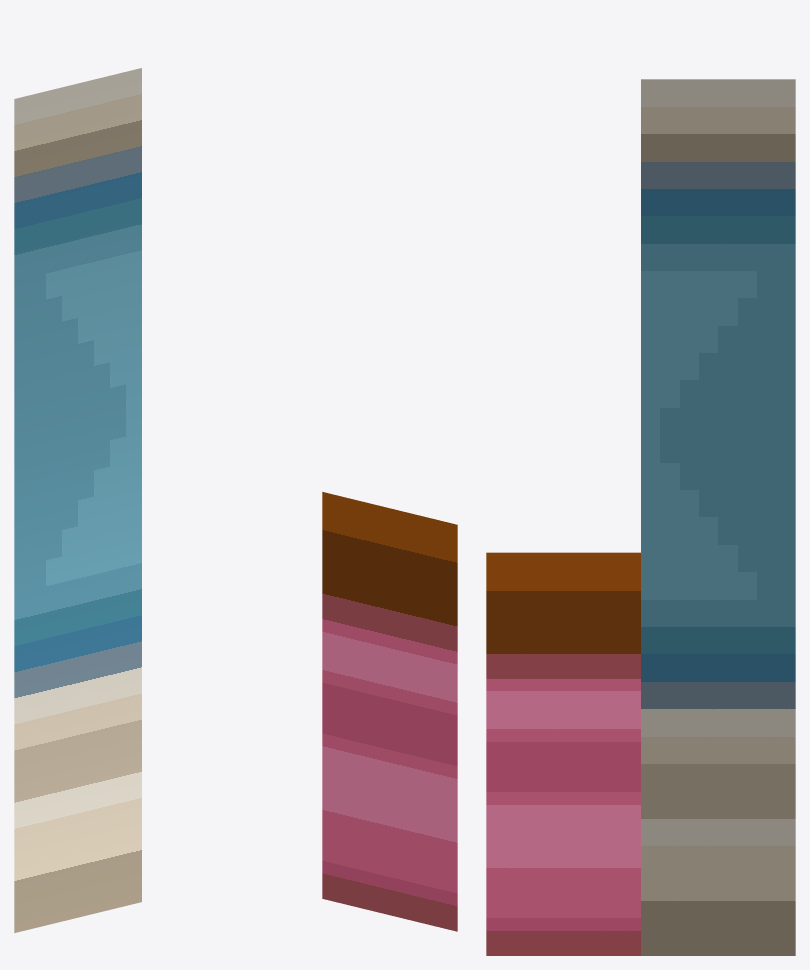
3 views of the same model, side by side, from view 1: azimuth 30°, elevation 25°; view 2: azimuth 150°, elevation 25°; view 3: azimuth 270°, elevation 25° (orthographic). The views are drawn at different scales.
Bounding box in the file's own units: 0.5 × 3.12 × 1.
2 materials, 2 textured.
